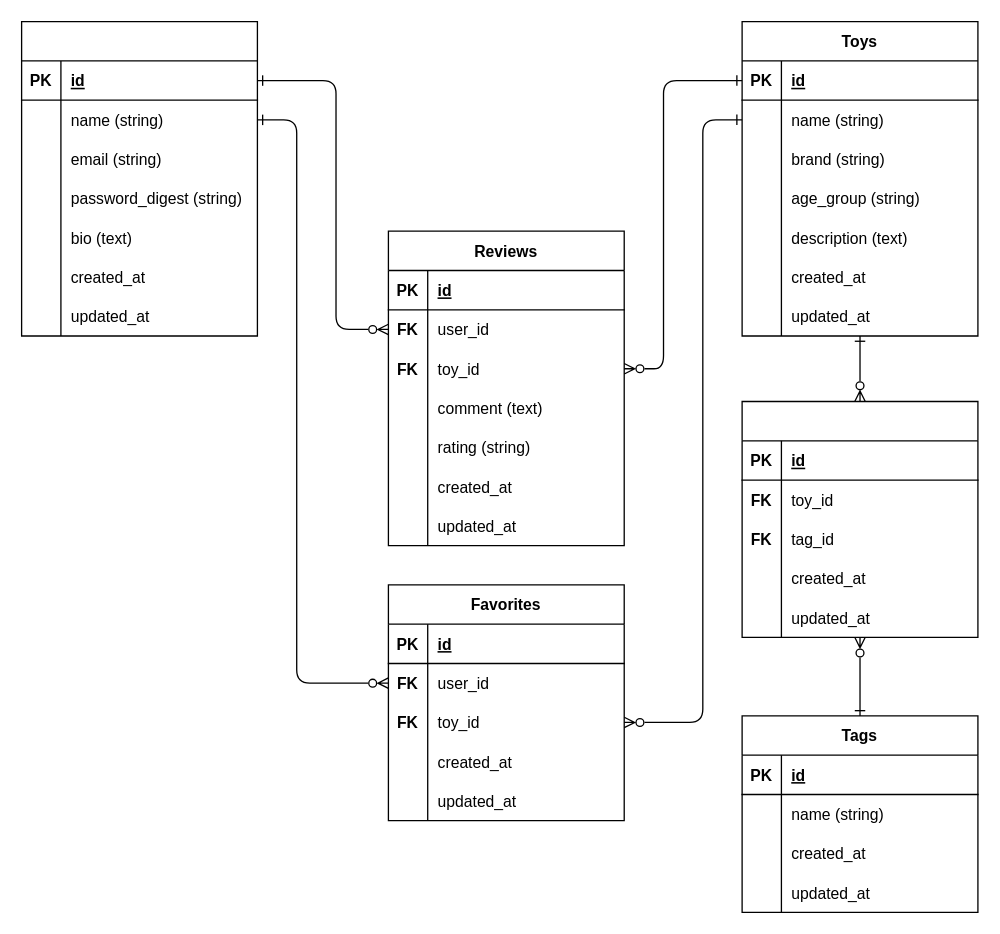
The diagram is 1000 pixels wide and 934 high, and some of its shapes have lost their labels. The shapes that lost their labels are listed below. From the top down, each one's box as (x1, y1, x2, y2) in pixels, then its label:
(20, 20, 257, 336): Users
(741, 400, 978, 637): ToyTags
